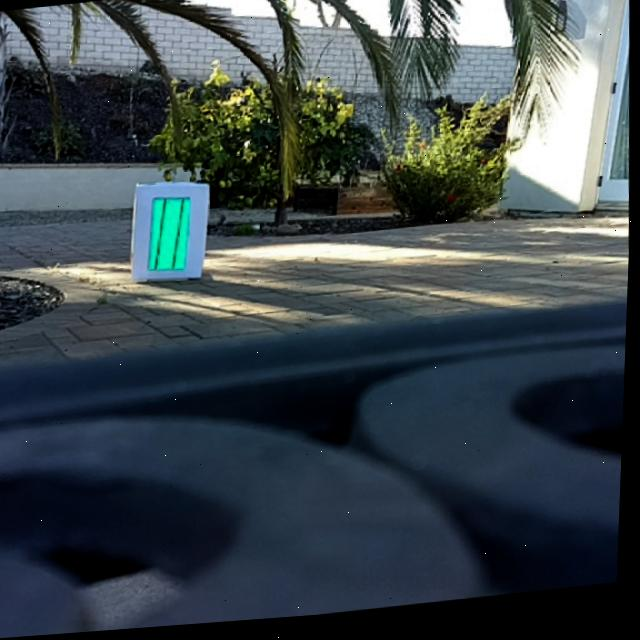led: (148, 196, 195, 276)
